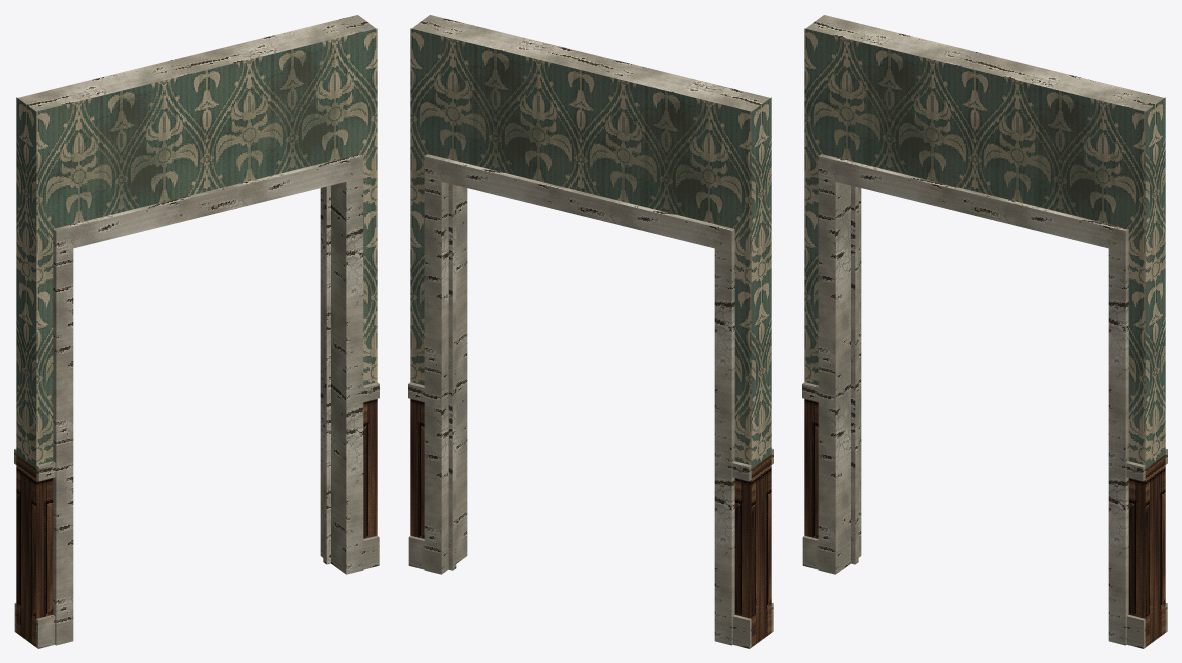
The model's file is house_wall_door_double.glb.
The picture shows the model from 3 angles, left to right: view 1: azimuth 30°, elevation 25°; view 2: azimuth 150°, elevation 25°; view 3: azimuth 330°, elevation 25°; orthographic projection.
Visible parts, largest first — view 1: house_wall_door_double; view 2: house_wall_door_double; view 3: house_wall_door_double.
Part boxes in pixels (x1,y1,x2,y2): house_wall_door_double: (14,15,379,648); house_wall_door_double: (408,15,773,648); house_wall_door_double: (802,15,1167,648).
Size of the model in its own units: 2 by 3 by 0.26.
3 materials, 3 textured.
